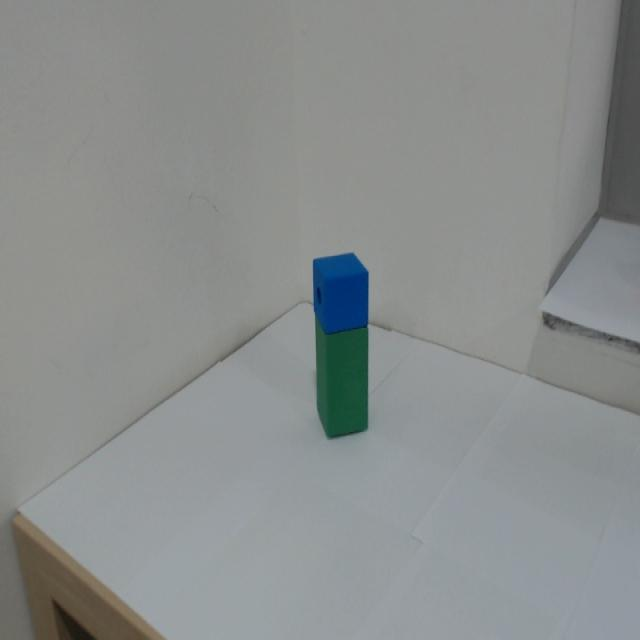cube: (291, 234, 380, 339)
